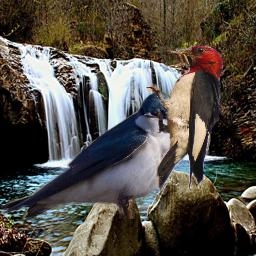Swallow: (0, 91, 183, 219)
Woodpecker: (146, 45, 223, 192)
